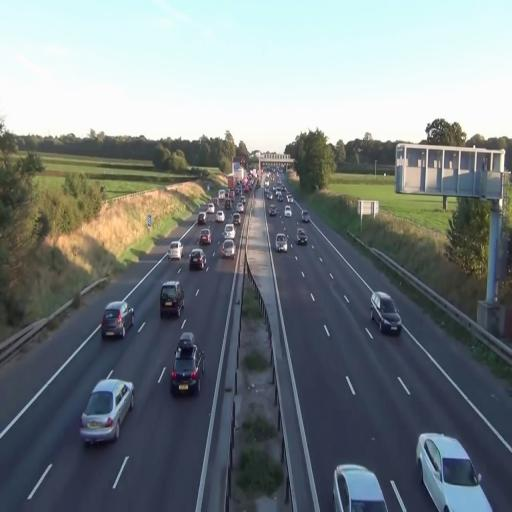vehicle: (417, 432, 494, 512), (79, 376, 135, 448), (333, 463, 388, 512), (170, 334, 203, 396), (370, 290, 402, 334), (102, 299, 134, 340), (159, 280, 185, 320), (189, 247, 207, 272), (220, 234, 236, 257), (274, 230, 288, 252), (168, 240, 182, 261), (198, 228, 212, 246), (297, 230, 308, 244)
